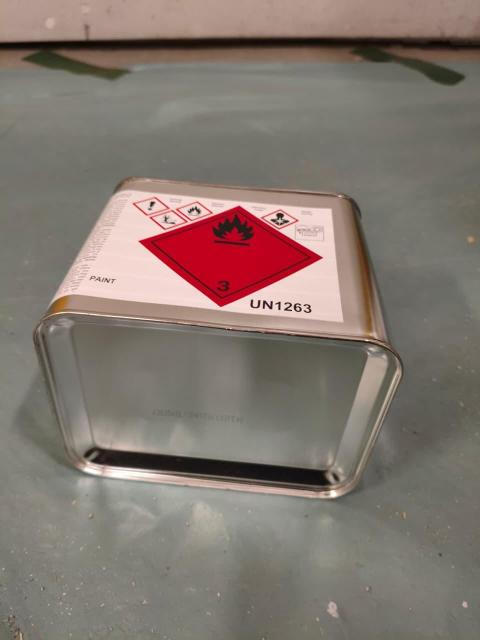Metal: (23, 182, 410, 500)
